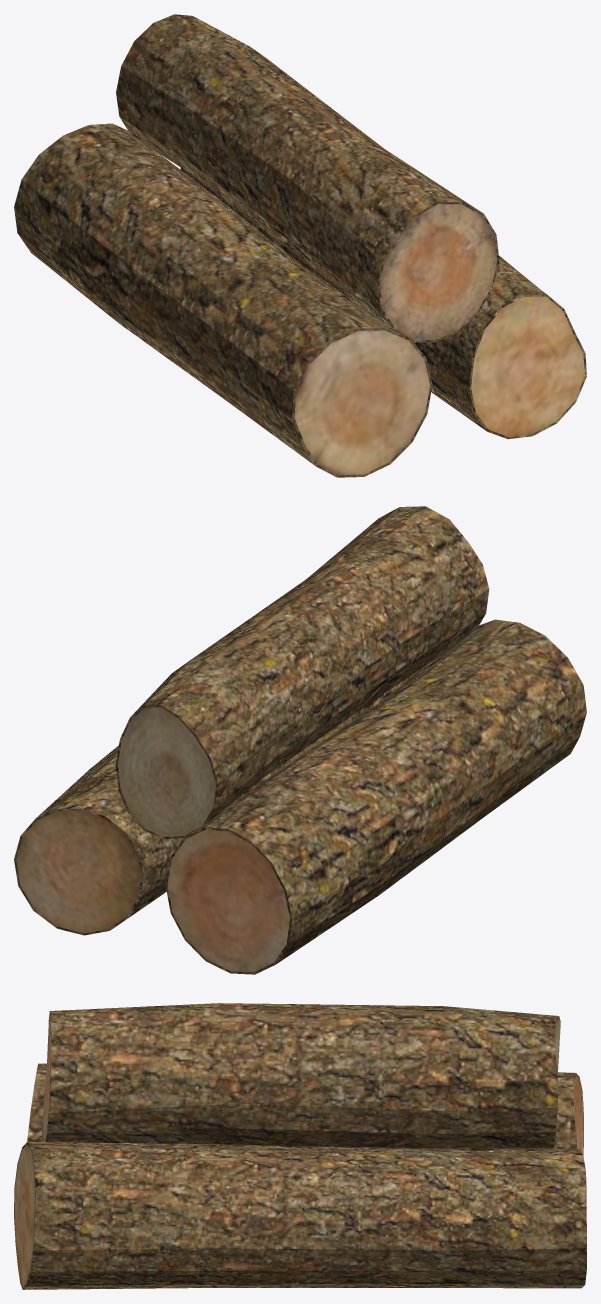
The model's file is wood.obj.
3 views of the same model, one above another, from view 1: azimuth 30°, elevation 25°; view 2: azimuth 150°, elevation 25°; view 3: azimuth 270°, elevation 25° (orthographic). The views are drawn at different scales.
Parts seen in each view (by area): view 1: Cylinder, Cylinder.002, Cylinder.001; view 2: Cylinder, Cylinder.002, Cylinder.001; view 3: Cylinder.001, Cylinder.002, Cylinder.
Part boxes in pixels (bbox=[...]): Cylinder: bbox=[14, 123, 432, 477]; Cylinder.002: bbox=[116, 14, 499, 342]; Cylinder.001: bbox=[180, 167, 586, 439]; Cylinder: bbox=[165, 619, 586, 974]; Cylinder.002: bbox=[115, 506, 489, 839]; Cylinder.001: bbox=[14, 663, 428, 935]; Cylinder.001: bbox=[14, 1142, 586, 1289]; Cylinder.002: bbox=[42, 1003, 560, 1150]; Cylinder: bbox=[27, 1063, 583, 1155].
Bounding box in the file's own units: 40.25 × 31.81 × 69.89.
1 material, 1 textured.
